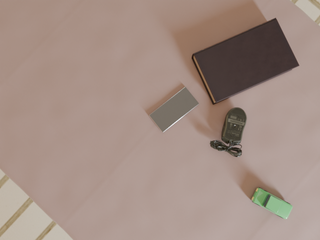book: (192, 18, 299, 105)
mouse: (210, 108, 247, 157)
phone: (149, 87, 199, 132)
toy_car: (252, 188, 293, 219)
